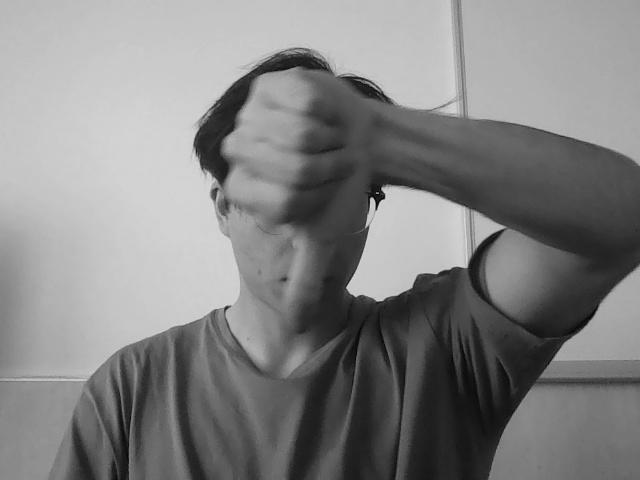bad: (222, 75, 386, 345)
